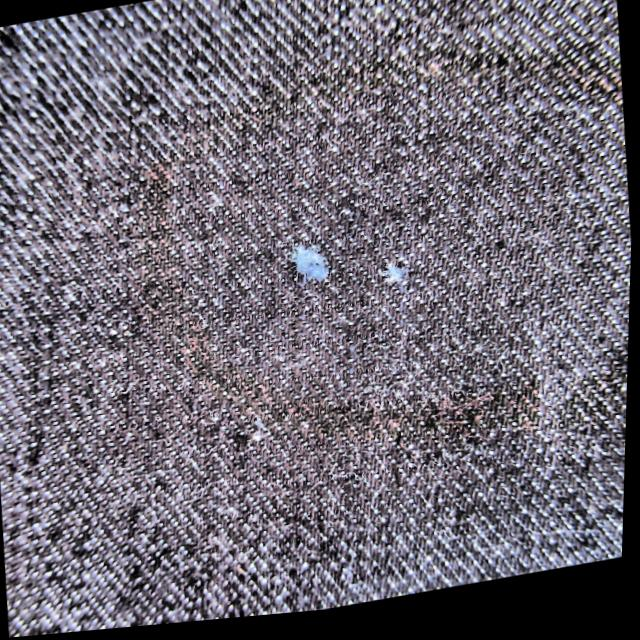Hole: (264, 226, 351, 303), (369, 259, 425, 303)
